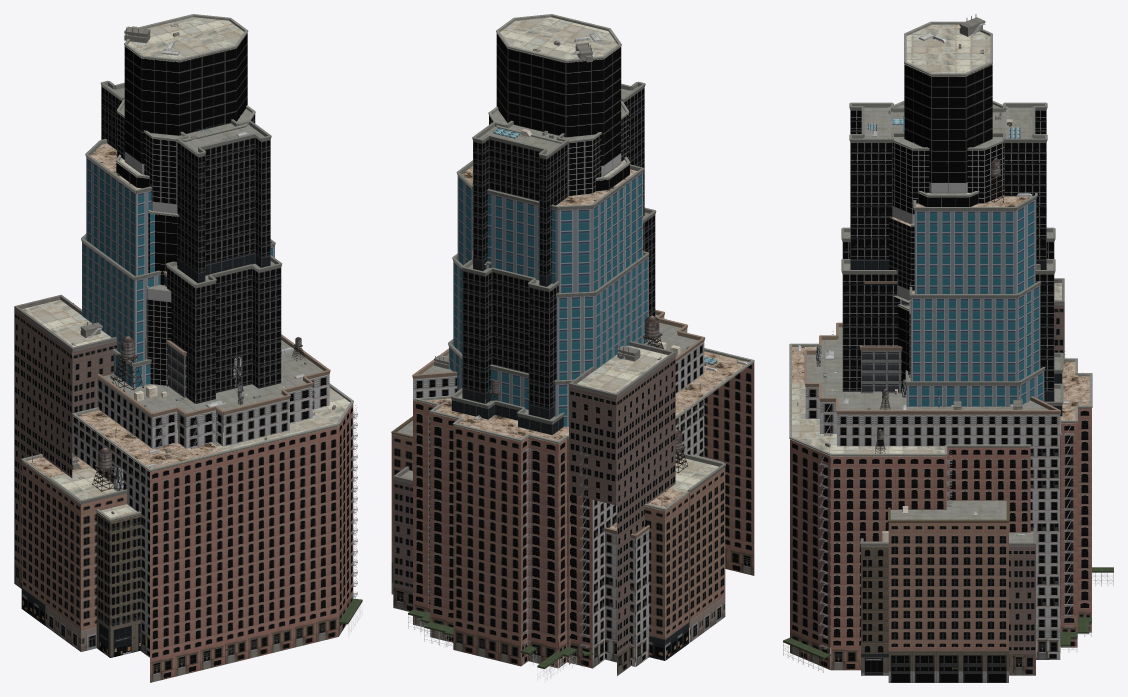
Rendered from continent_buildings.glb.
3 views of the same model, side by side, from view 1: azimuth 30°, elevation 25°; view 2: azimuth 150°, elevation 25°; view 3: azimuth 270°, elevation 25° (orthographic).
Parts seen in each view (by area): view 1: continent_31, continent_14, continent_26, continent_07, continent_15, continent_28, continent_27, continent_11; view 2: continent_26, continent_31, continent_28, continent_14, continent_07, continent_15, continent_27, continent_11; view 3: continent_31, continent_26, continent_28, continent_15, continent_14, continent_07, continent_27, continent_11.
Boxes of the visible parts, x1=… form: continent_31: x1=14, y1=294, x2=362, y2=682; continent_14: x1=100, y1=80, x2=282, y2=432; continent_26: x1=72, y1=334, x2=330, y2=657; continent_07: x1=115, y1=14, x2=248, y2=285; continent_15: x1=21, y1=453, x2=127, y2=651; continent_28: x1=81, y1=139, x2=275, y2=387; continent_27: x1=92, y1=271, x2=195, y2=657; continent_11: x1=116, y1=99, x2=255, y2=385; continent_26: x1=408, y1=309, x2=705, y2=668; continent_31: x1=537, y1=341, x2=754, y2=680; continent_28: x1=448, y1=160, x2=654, y2=426; continent_14: x1=450, y1=81, x2=656, y2=649; continent_07: x1=496, y1=14, x2=630, y2=191; continent_15: x1=391, y1=416, x2=725, y2=660; continent_27: x1=393, y1=293, x2=723, y2=666; continent_11: x1=488, y1=100, x2=629, y2=196; continent_31: x1=783, y1=278, x2=1113, y2=672; continent_26: x1=804, y1=322, x2=1092, y2=659; continent_28: x1=905, y1=158, x2=1045, y2=406; continent_15: x1=888, y1=498, x2=1009, y2=682; continent_14: x1=841, y1=102, x2=1063, y2=631; continent_07: x1=897, y1=14, x2=992, y2=394; continent_27: x1=859, y1=281, x2=1036, y2=675; continent_11: x1=888, y1=101, x2=1008, y2=377.
Bounding box in the file's own units: 5.05 × 10.17 × 5.26.
31 materials, 24 textured.
